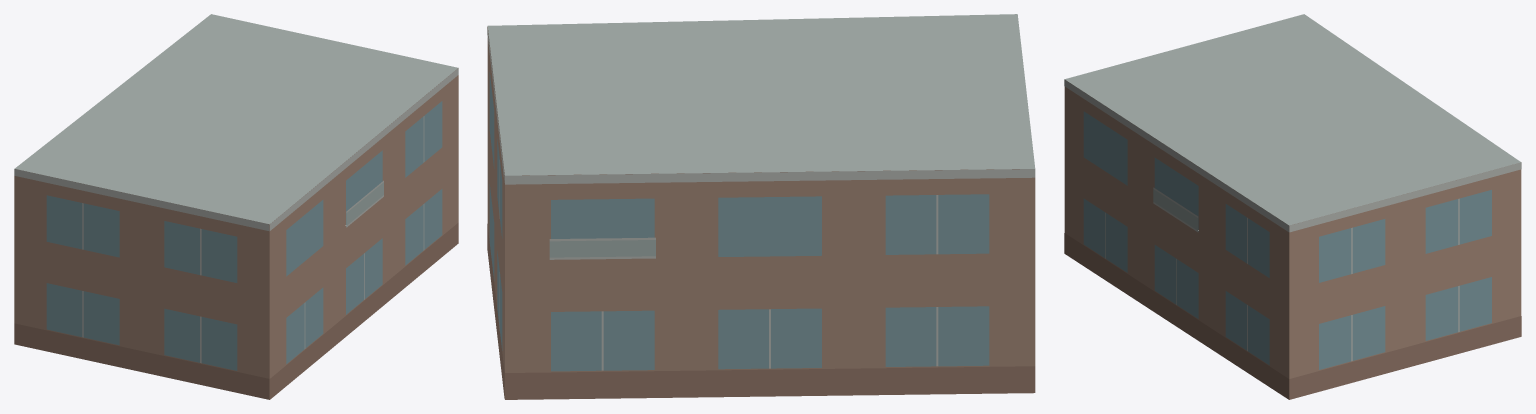
File: survey-upis-32621829.glb
The picture shows the model from 3 angles, left to right: view 1: azimuth 30°, elevation 25°; view 2: azimuth 150°, elevation 25°; view 3: azimuth 270°, elevation 25°; orthographic projection. The views are drawn at different scales.
Parts seen in each view (by area): view 1: survey-upis-32621829.tmp; view 2: survey-upis-32621829.tmp; view 3: survey-upis-32621829.tmp.
Boxes of the visible parts, x1=… form: survey-upis-32621829.tmp: x1=14, y1=14, x2=458, y2=399; survey-upis-32621829.tmp: x1=487, y1=14, x2=1035, y2=399; survey-upis-32621829.tmp: x1=1064, y1=14, x2=1521, y2=399.
Bounding box in the file's own units: 15.88 × 6.1 × 14.5.
